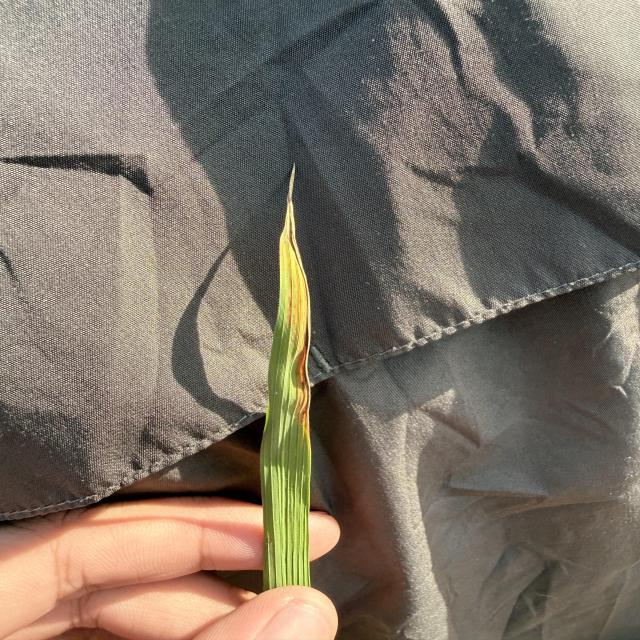Chay bia la: (285, 163, 313, 446)
